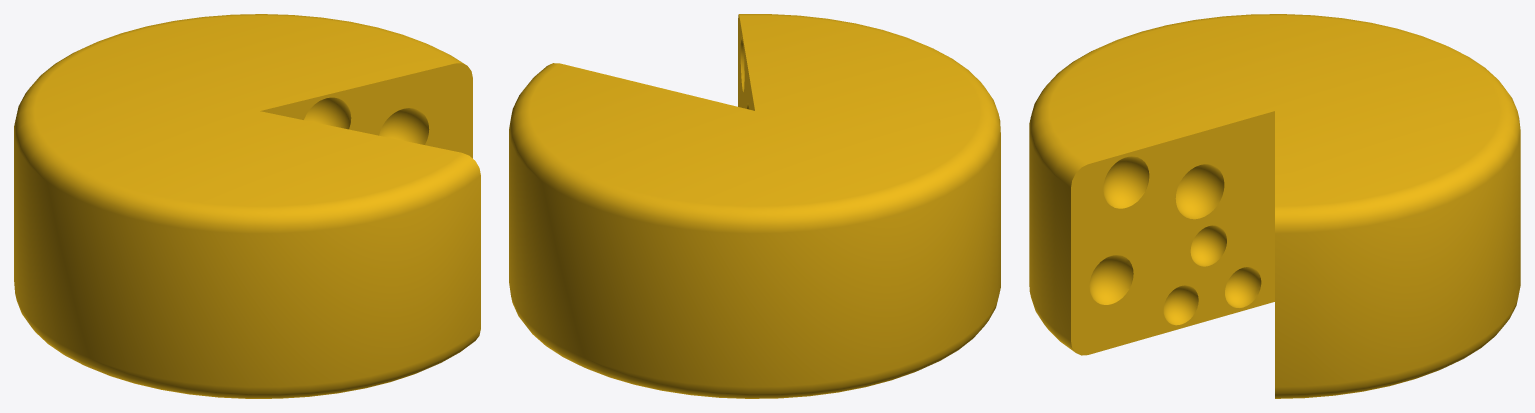
Rendered from cheese.FBX.
The picture shows the model from 3 angles, left to right: view 1: azimuth 30°, elevation 25°; view 2: azimuth 150°, elevation 25°; view 3: azimuth 270°, elevation 25°; orthographic projection.
Visible parts, largest first — view 1: ChamferCyl01; view 2: ChamferCyl01; view 3: ChamferCyl01.
Boxes of the visible parts, x1=… form: ChamferCyl01: x1=14, y1=14, x2=480, y2=398; ChamferCyl01: x1=509, y1=14, x2=1000, y2=398; ChamferCyl01: x1=1029, y1=14, x2=1520, y2=398.
Size of what is drawn, in the model's own units: 599 by 256 by 599.
